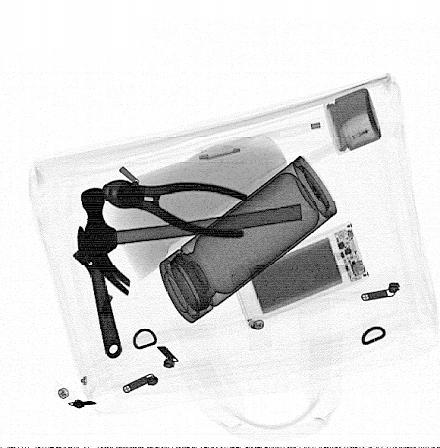Hammer: (81, 187, 302, 296)
Pliers: (99, 179, 250, 237)
Powerbank: (230, 220, 371, 326)
Wrench: (72, 221, 123, 359)
